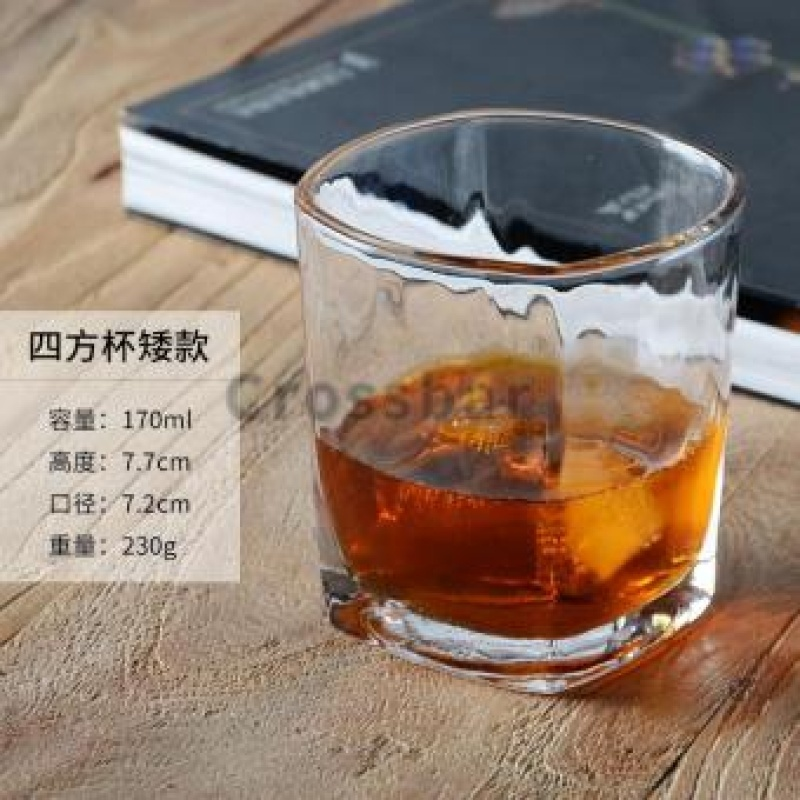whiskey: (316, 114, 728, 657)
